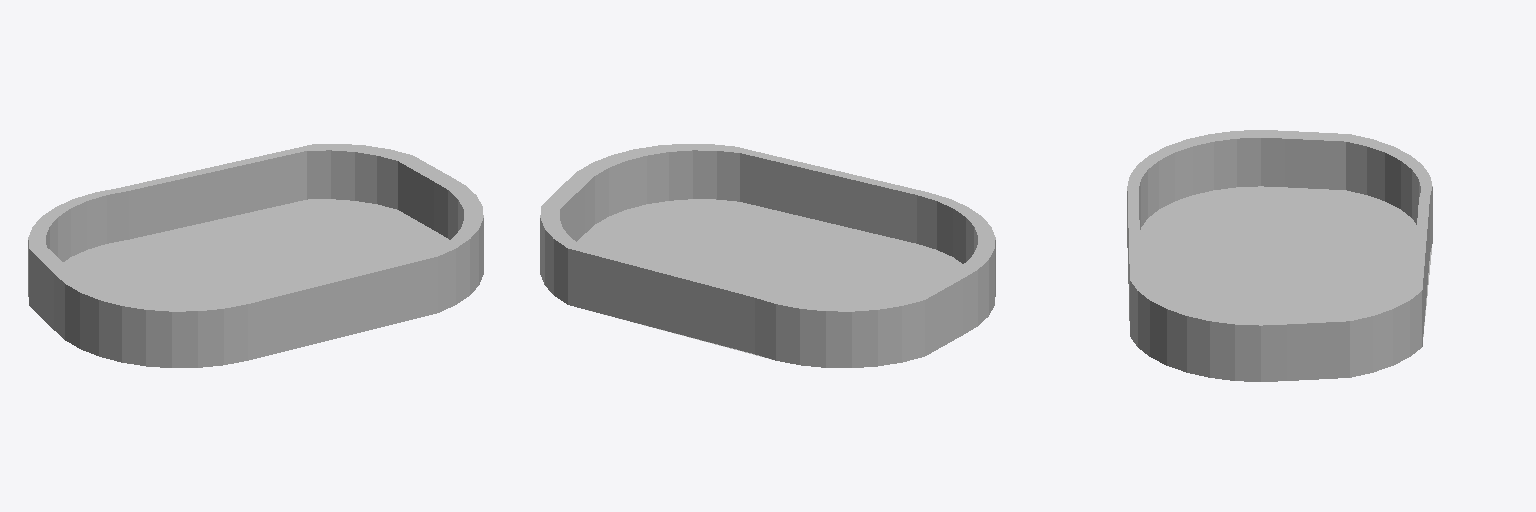
Rendered from storehouse.obj.
3 renders of one model, left to right at view 1: azimuth 30°, elevation 25°; view 2: azimuth 150°, elevation 25°; view 3: azimuth 270°, elevation 25°, orthographic.
Parts seen in each view (by area): view 1: Cylinder; view 2: Cylinder; view 3: Cylinder.
Part boxes in pixels (bbox=[...]): Cylinder: bbox=[28, 144, 483, 367]; Cylinder: bbox=[540, 144, 995, 367]; Cylinder: bbox=[1127, 130, 1432, 381].
Size of the model in its own units: 3.46 by 0.4669 by 2.28.